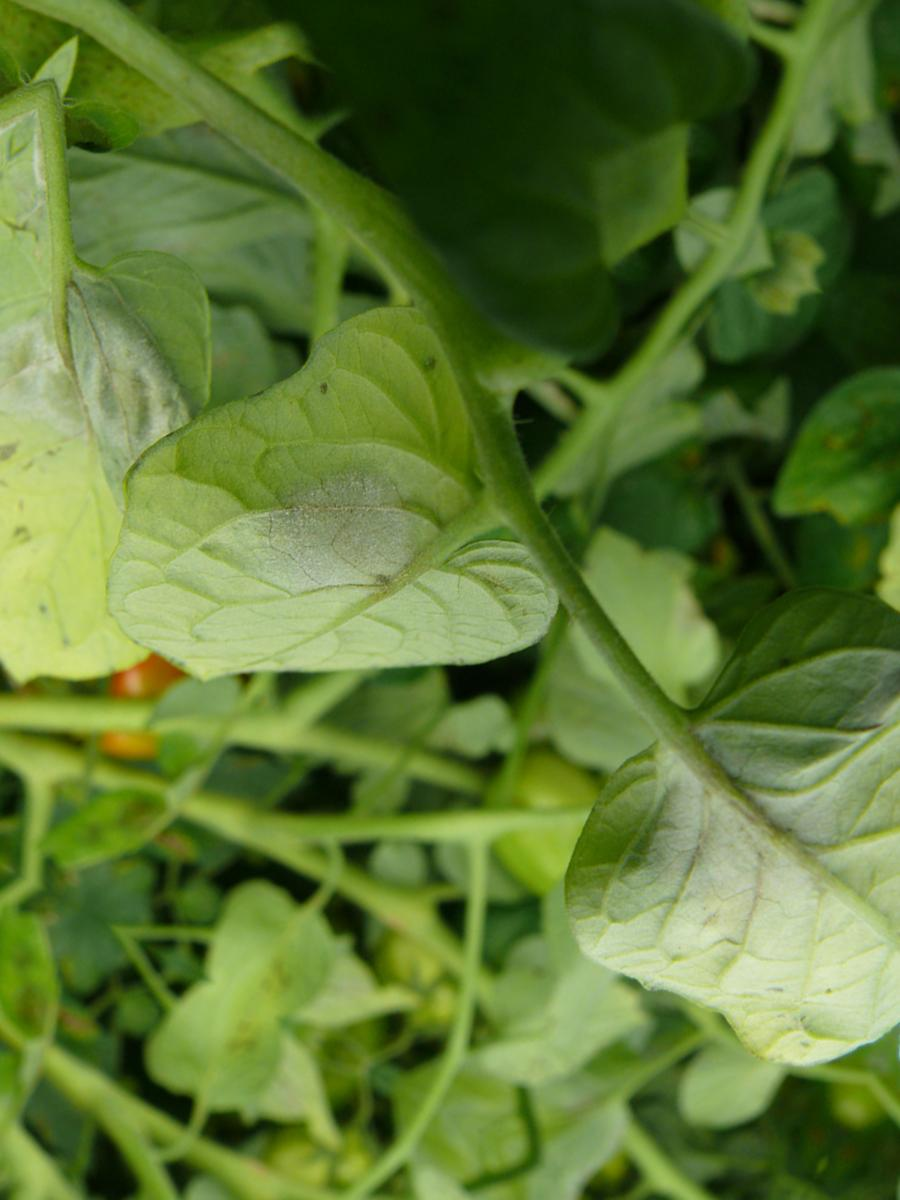Tomato leaf late blight: (74, 230, 666, 821), (518, 488, 900, 1130), (0, 115, 363, 768)
